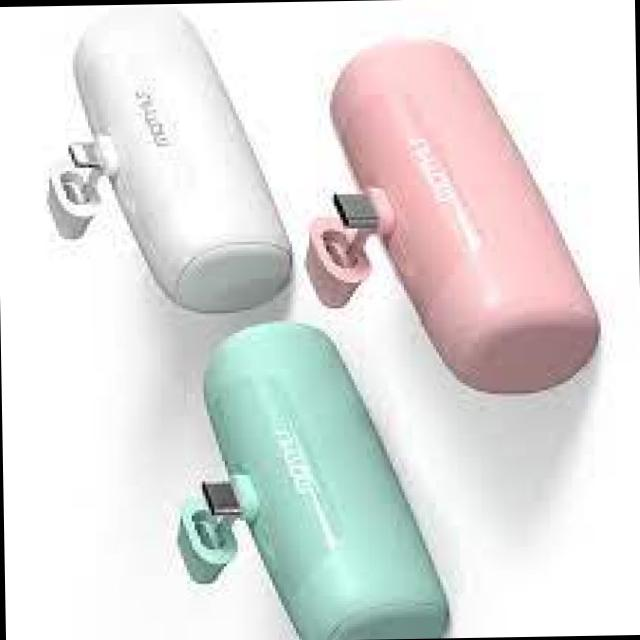power_bank: (298, 35, 604, 398), (166, 312, 455, 640), (41, 4, 293, 312)
